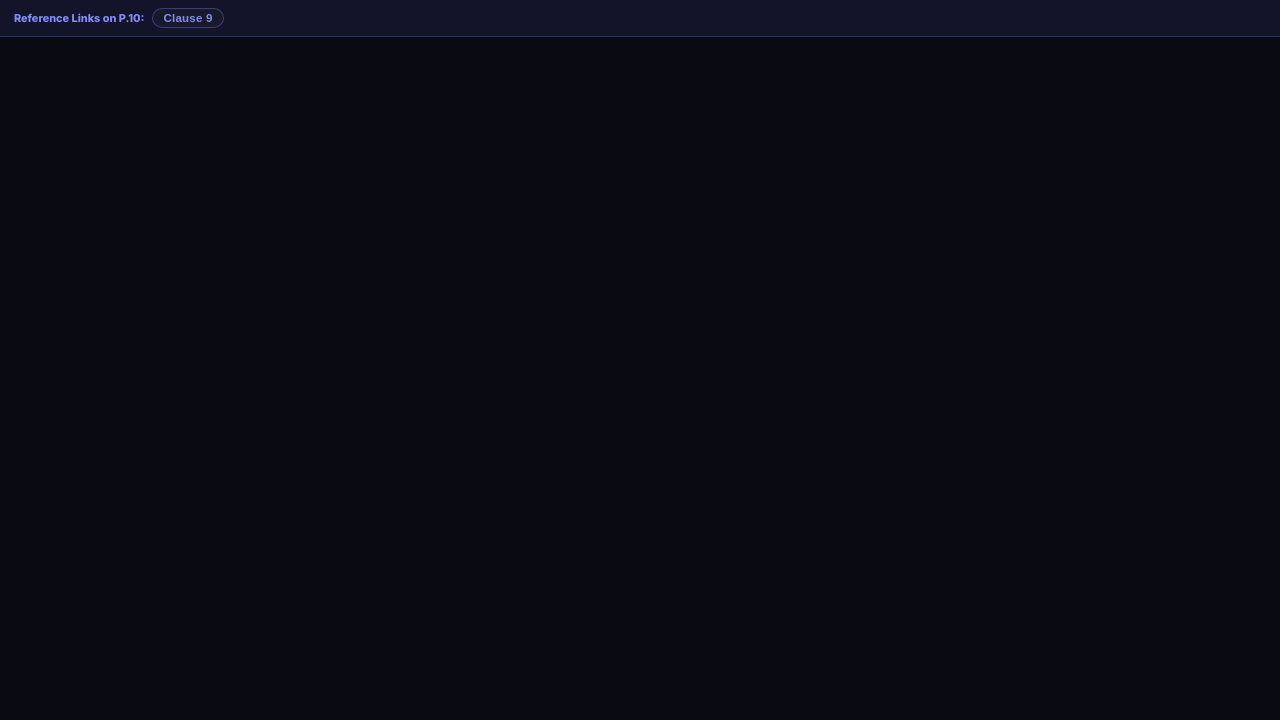
Test: PageReferenceBadges › a multi-candidate mention (mix of exact + approximate) opens the picker modal with both groups; a row click opens that candidate and closes it
Click the button with test id "page-reference-badge-clause:9" at (188, 18), box [152,8,224,28]
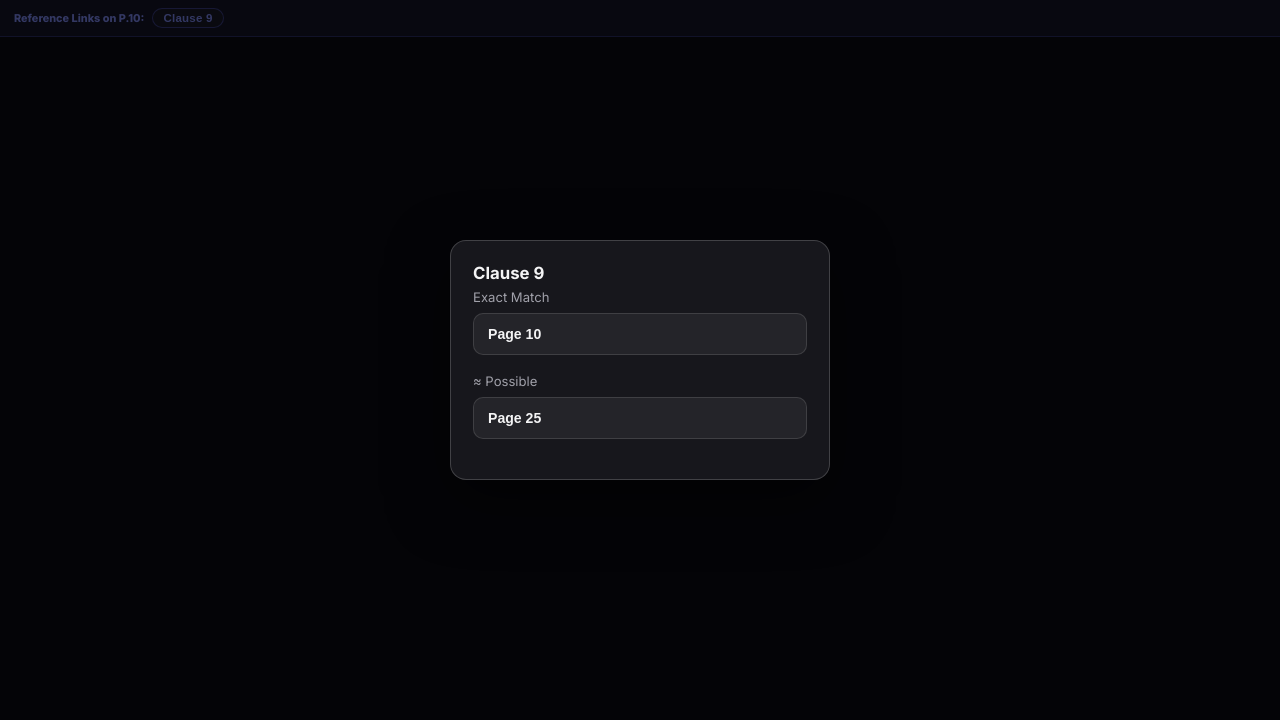
Expected: the element with test id "page-reference-candidates-modal" shows "Exact Match", [473,289,550,305]
Expected: the element with test id "page-reference-candidates-modal" shows "Possible", [473,373,537,389]
Expected: the element with test id "page-reference-candidates-modal" shows "Page 10", [450,240,830,480]
Click the button "Page 25" at (507, 418), box [473,397,807,439]
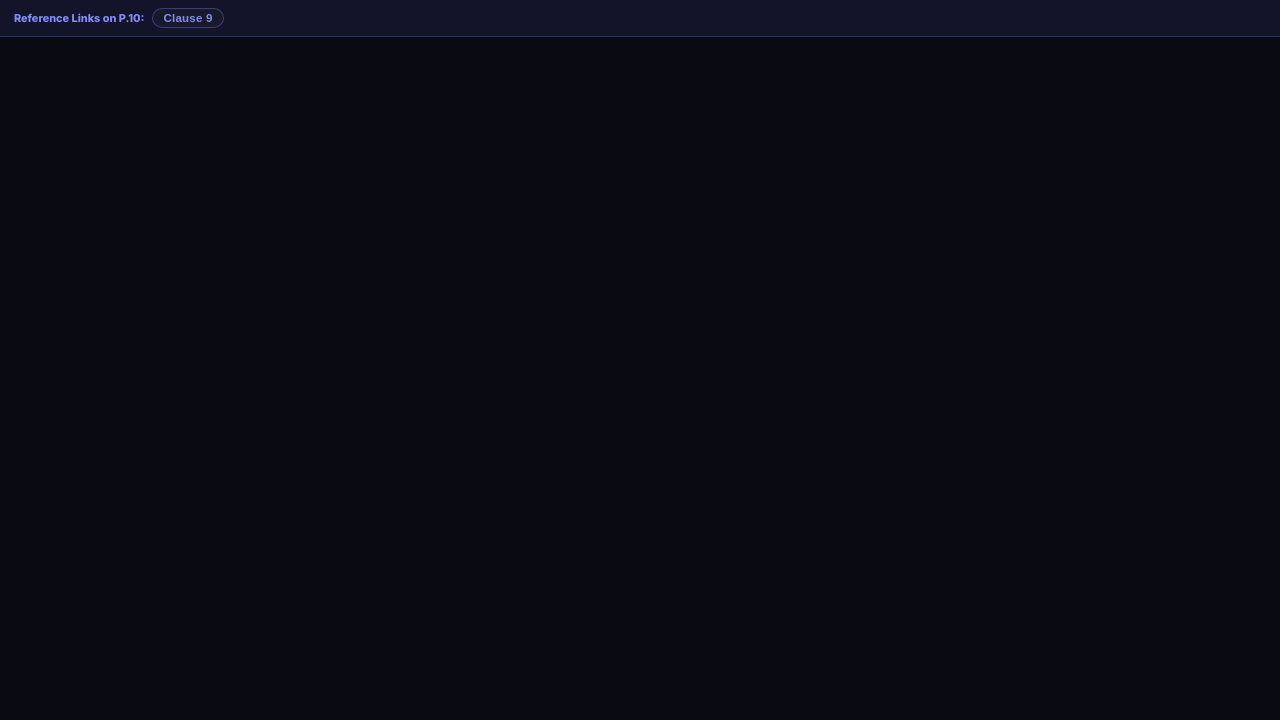
Expected: the element with test id "page-reference-candidates-modal" is gone
